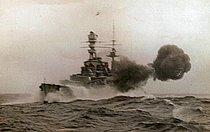MIL_Ship: (35, 30, 135, 103)
